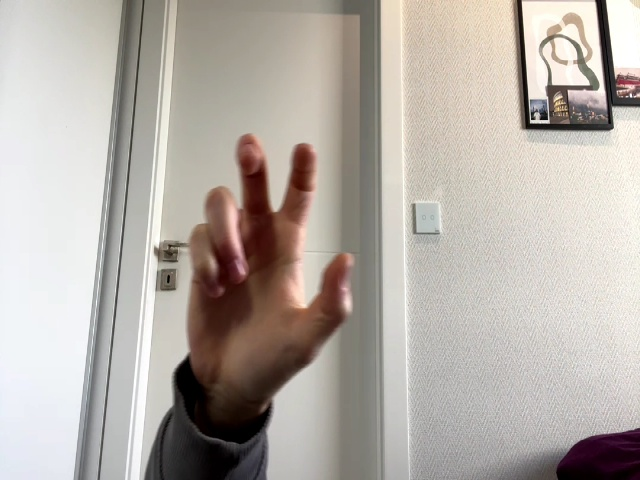CH: (187, 134, 353, 387)
